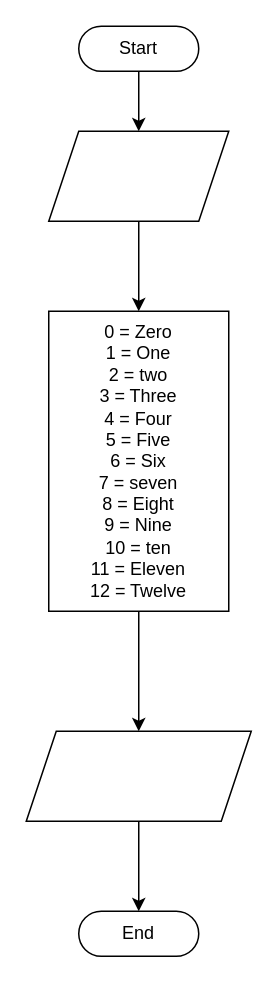
This 278x983 diagram has some shape labels left out. The box of each missing label's shape, as (x1, y1, x2, y2) in pixels:
รับค่าตัวเลข: (47, 130, 229, 221)
แสดงผลลัพธ์ออกมา: (25, 730, 251, 821)
